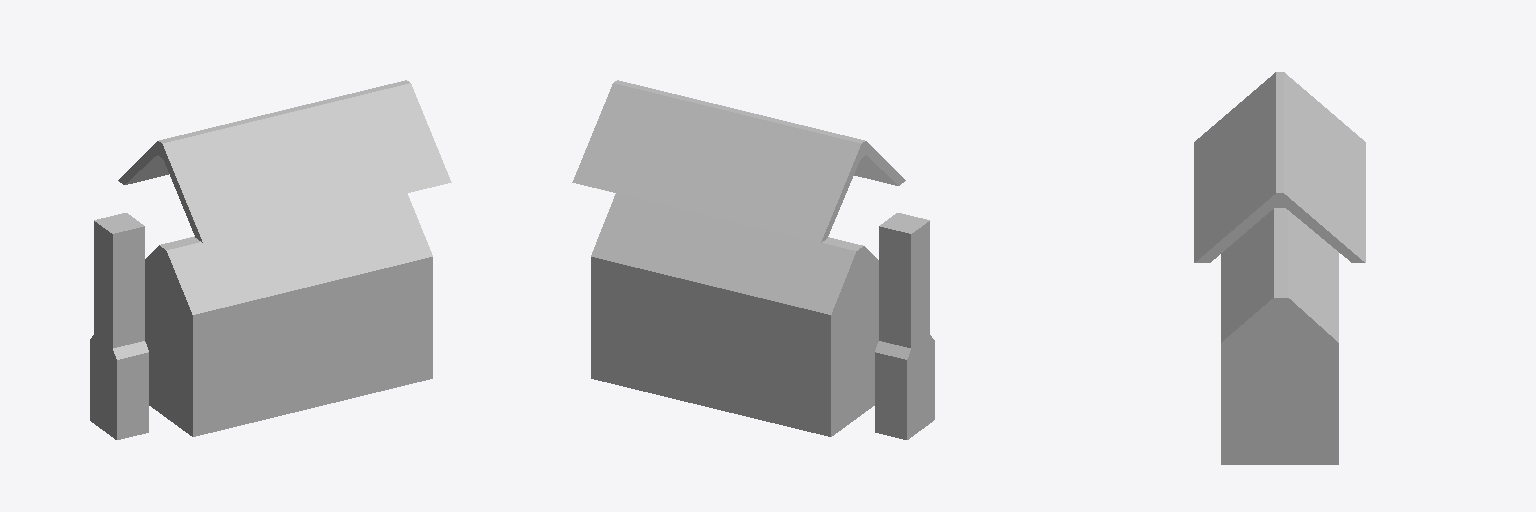
Rendered from villiage1_export.obj.
3 renders of one model, left to right at view 1: azimuth 30°, elevation 25°; view 2: azimuth 150°, elevation 25°; view 3: azimuth 270°, elevation 25°, orthographic.
Visible parts, largest first — view 1: mesh01, mesh02, mesh03; view 2: mesh01, mesh02, mesh03; view 3: mesh01, mesh02.
Part boxes in pixels (left/top/right/bottom): mesh01: left=145, top=193, right=432, bottom=436; mesh02: left=118, top=80, right=451, bottom=242; mesh03: left=90, top=213, right=148, bottom=439; mesh01: left=591, top=193, right=878, bottom=436; mesh02: left=572, top=80, right=905, bottom=242; mesh03: left=875, top=213, right=934, bottom=439; mesh01: left=1221, top=208, right=1338, bottom=464; mesh02: left=1194, top=72, right=1365, bottom=262.
Bounding box in the file's own units: 169 × 145 × 82.04.